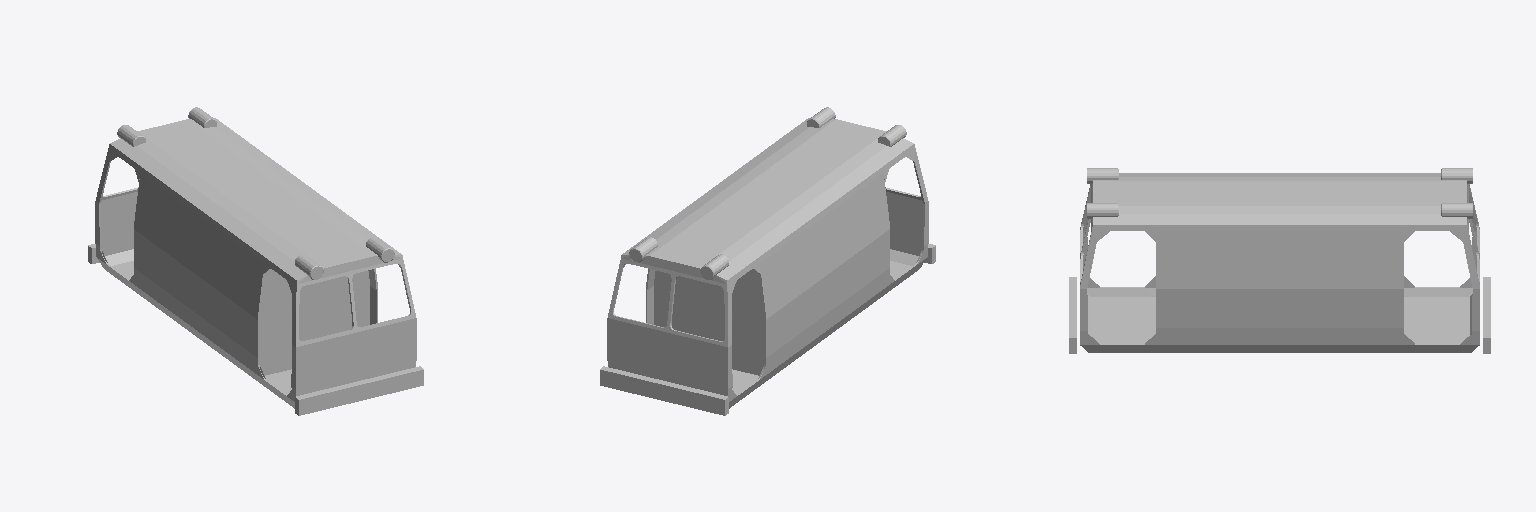
Rendered from 750dieselloco.obj.
3 views of the same model, side by side, from view 1: azimuth 30°, elevation 25°; view 2: azimuth 150°, elevation 25°; view 3: azimuth 270°, elevation 25° (orthographic).
Parts seen in each view (by area): view 1: Cube; view 2: Cube; view 3: Cube.
Boxes of the visible parts, x1=… form: Cube: x1=88, y1=107, x2=423, y2=415; Cube: x1=600, y1=107, x2=935, y2=415; Cube: x1=1069, y1=168, x2=1490, y2=353.
Bounding box in the file's own units: 1.5 × 1.59 × 4.37.